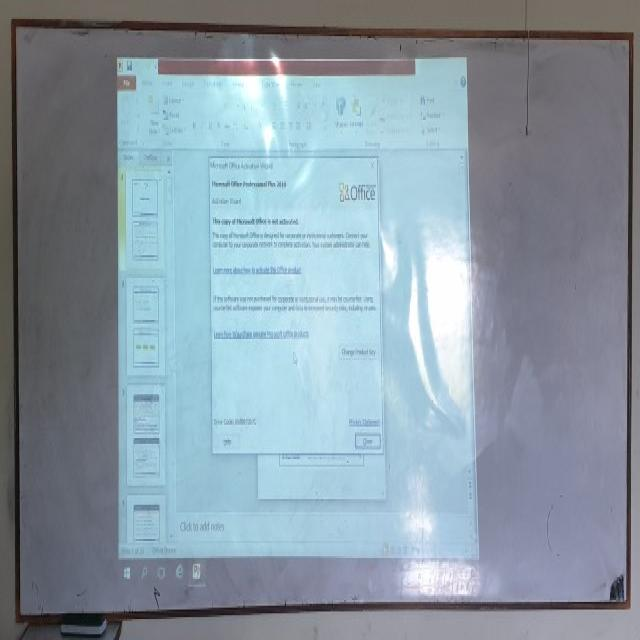Slide: (118, 55, 479, 600)
White-board: (14, 22, 630, 620)
